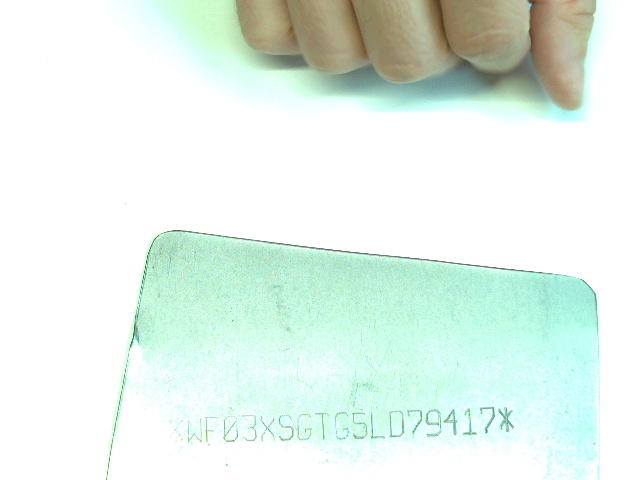0: (220, 414, 241, 444)
1: (461, 406, 478, 437)
3: (240, 413, 259, 442)
4: (445, 406, 460, 438)
5: (351, 411, 369, 440)
7: (405, 407, 424, 439), (479, 406, 496, 435)
9: (425, 407, 443, 438)
d: (389, 409, 406, 438)
f: (202, 414, 220, 445)
g: (332, 409, 351, 440), (296, 412, 313, 441)
l: (367, 411, 386, 440)
s: (277, 412, 295, 442)
t: (315, 411, 331, 441)
w: (184, 416, 205, 444)
x: (258, 412, 278, 442)
